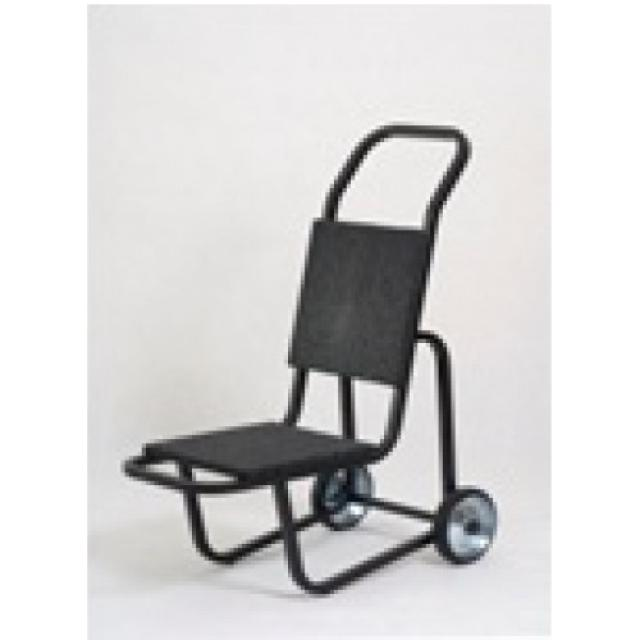Chair: (116, 120, 502, 599)
